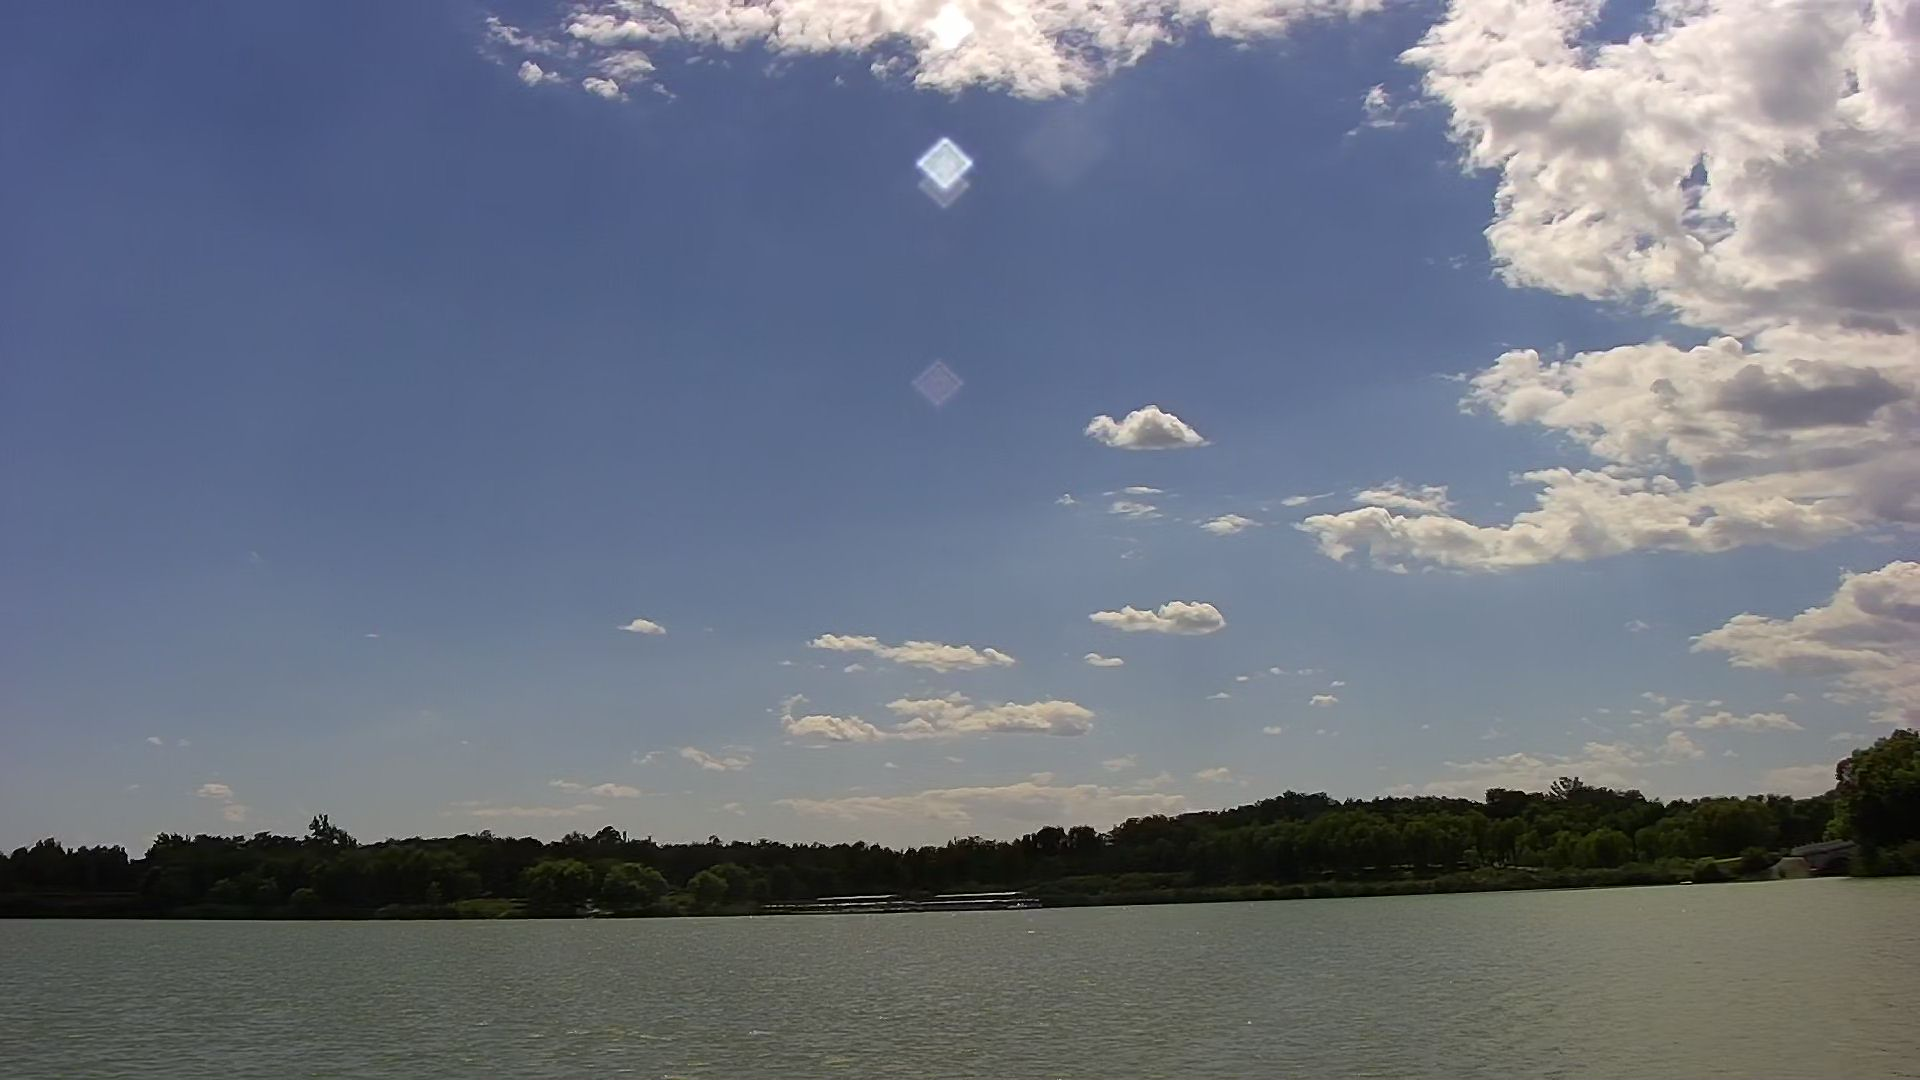harbor: (764, 884, 1044, 914)
